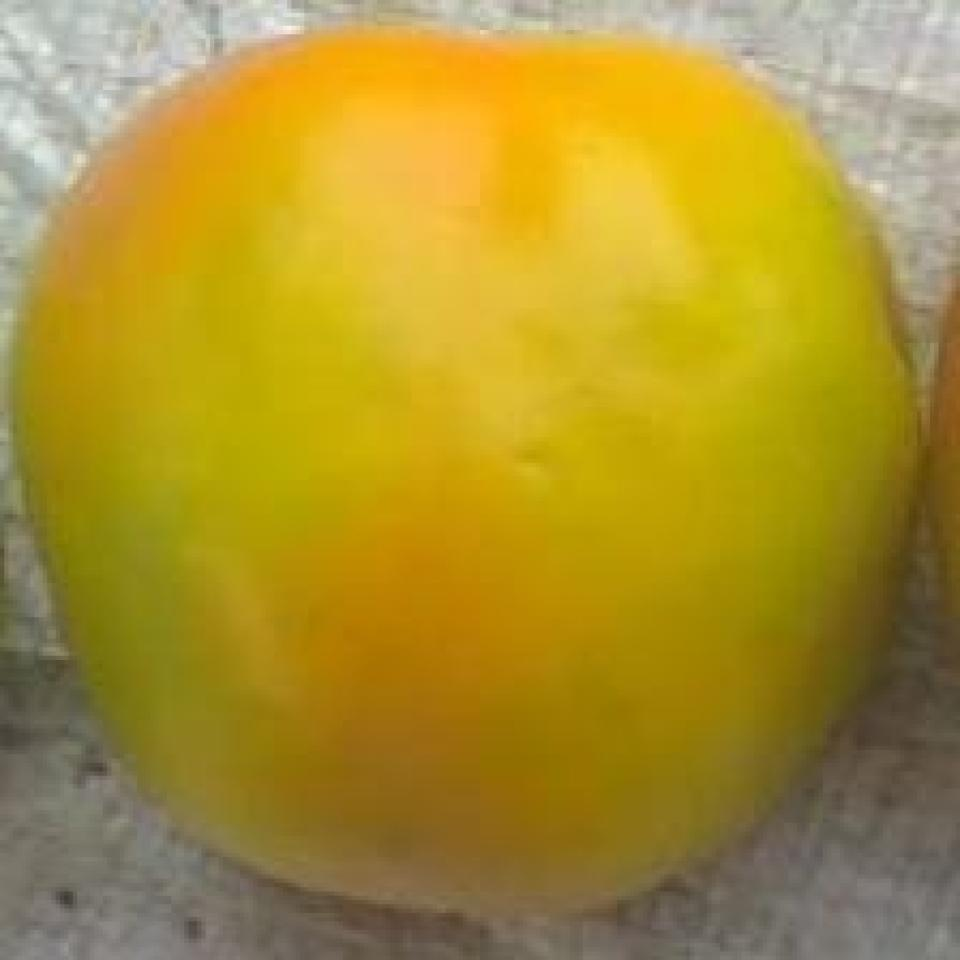Spotted wilt Virus: (8, 23, 924, 921)
